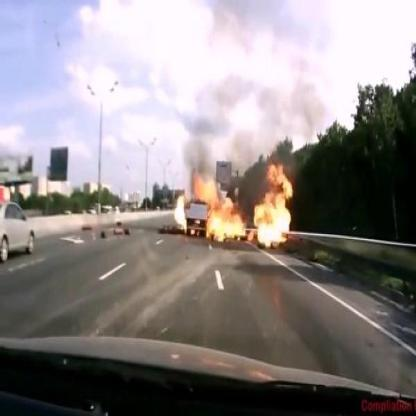fire: (197, 156, 296, 251), (173, 188, 188, 232)
